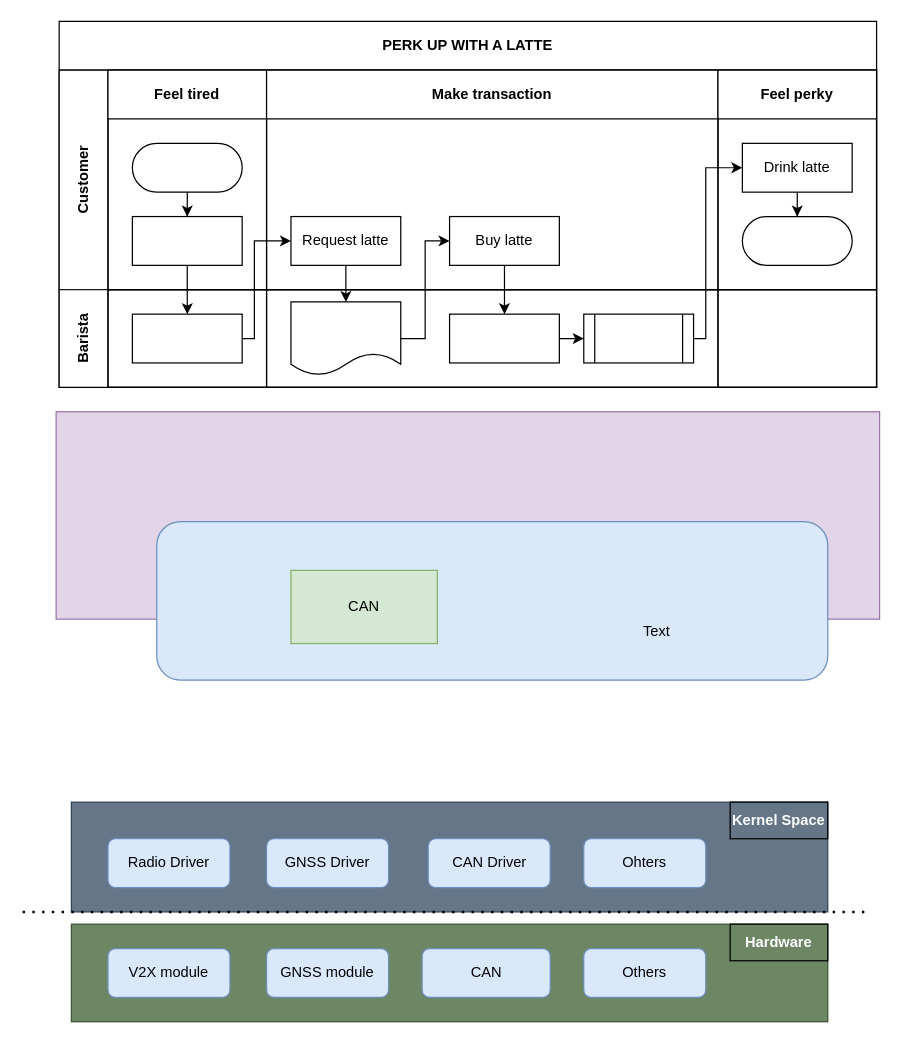
Some shapes in this 900 by 1043 pixel diagram are drawn without their labels. The centre of each missing label's shape, as x and y in pixels:
Accept payment: the point at 503,338
End: the point at 796,240
Find barista: the point at 186,240
Greet customer: the point at 186,338
Make latte: the point at 638,338
Start: the point at 186,167
Write details on cup: the point at 345,338
